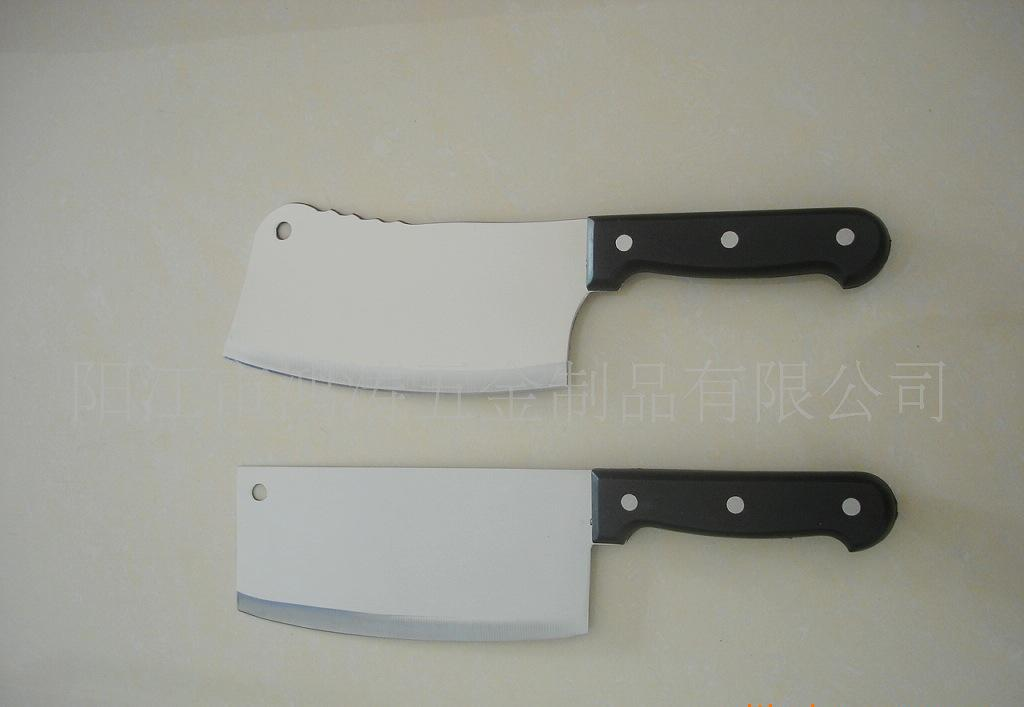knief: (188, 167, 913, 380)
